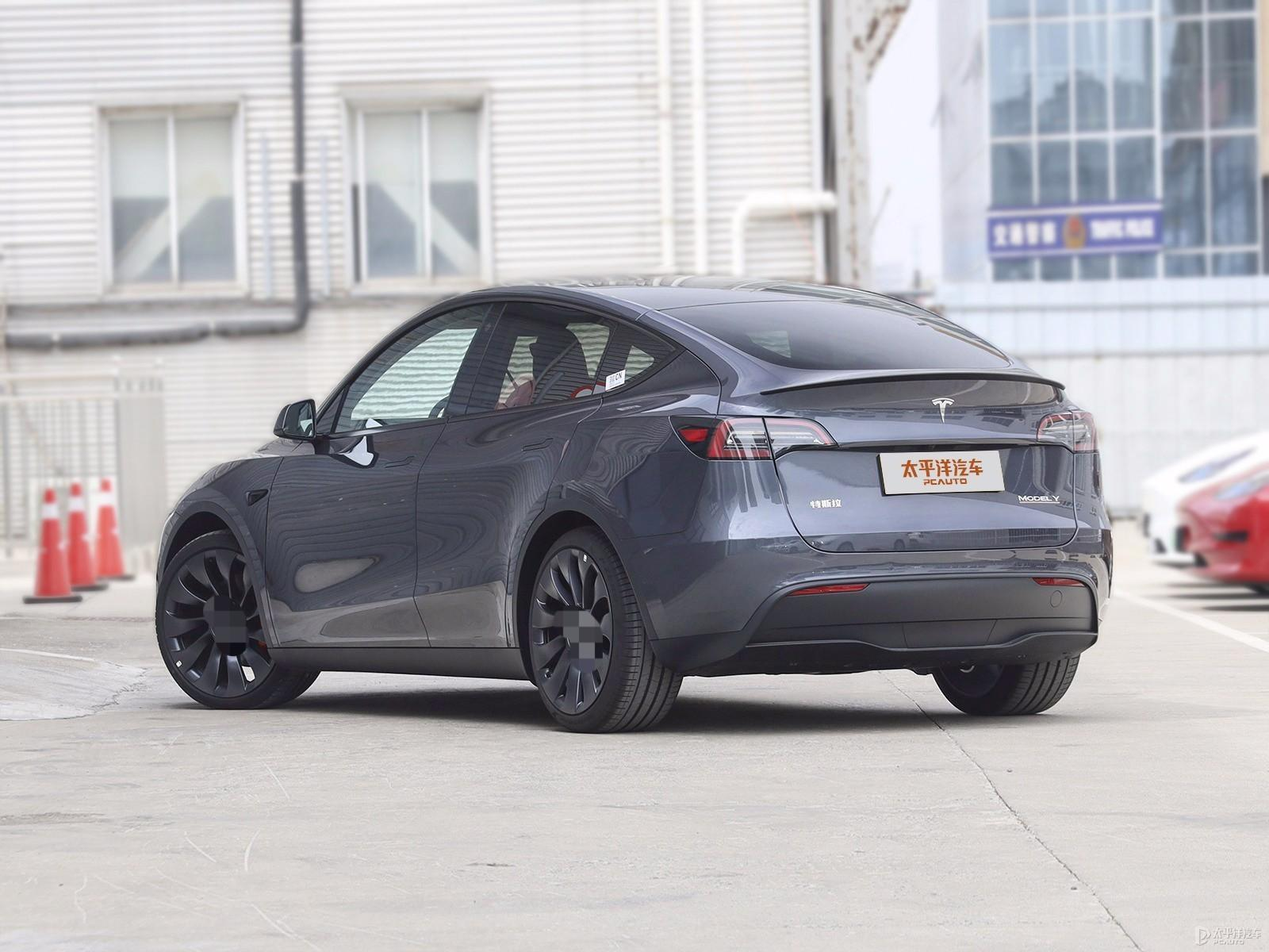Tesla: (931, 398, 955, 424)
